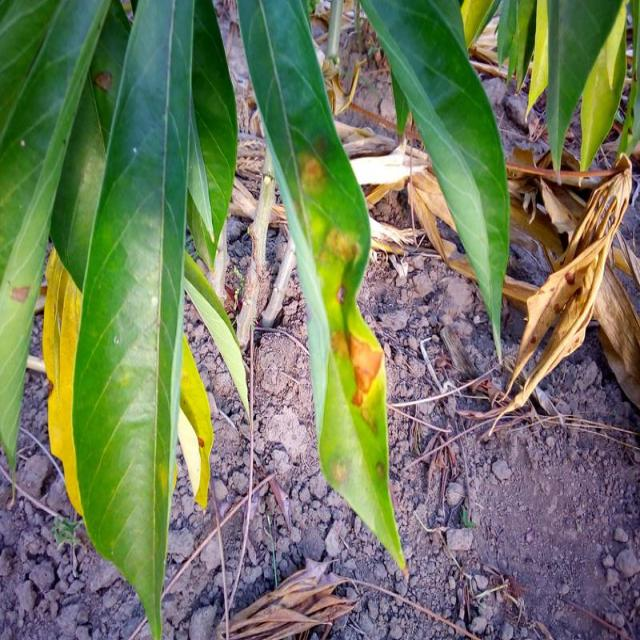cassava leaf: (234, 0, 408, 580), (70, 0, 196, 637), (358, 0, 510, 367)
